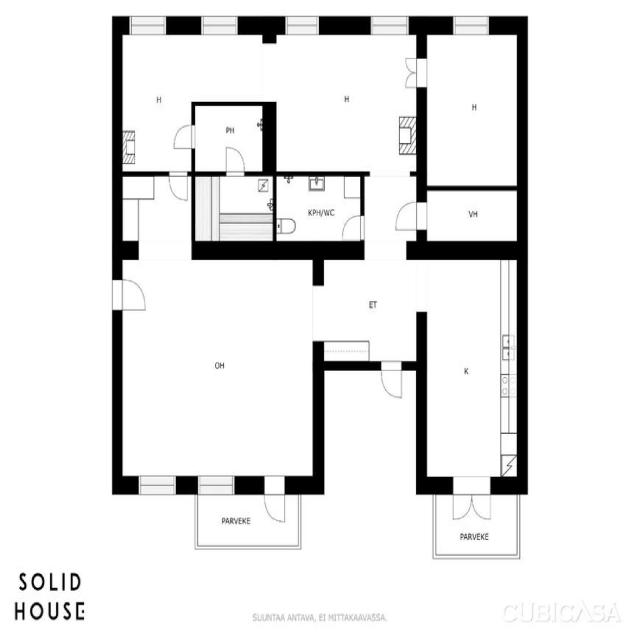door: (122, 42, 194, 169), (447, 475, 497, 531), (361, 8, 418, 44), (259, 472, 291, 530), (113, 274, 150, 314), (377, 359, 406, 403), (392, 199, 424, 235), (401, 52, 426, 92), (222, 141, 248, 177), (170, 121, 198, 154), (338, 212, 368, 242), (166, 167, 191, 203)
window: (306, 277, 331, 352), (129, 470, 184, 500), (362, 9, 416, 39), (446, 8, 496, 40), (123, 8, 174, 39), (190, 468, 241, 499), (278, 9, 326, 41), (194, 10, 245, 40)
zone: (116, 247, 313, 486), (424, 253, 519, 484), (270, 30, 418, 174), (422, 27, 522, 188), (318, 254, 419, 367), (121, 29, 196, 170), (273, 174, 363, 246), (193, 172, 276, 248), (192, 104, 266, 176)
